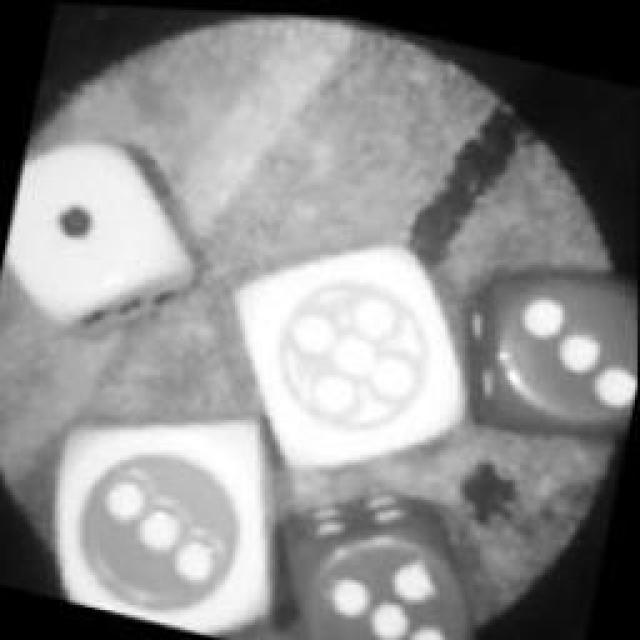dice_1: (0, 114, 220, 364)
dice_3: (41, 385, 301, 640), (462, 244, 640, 448)
dice_5: (204, 198, 496, 502), (270, 477, 507, 640)
